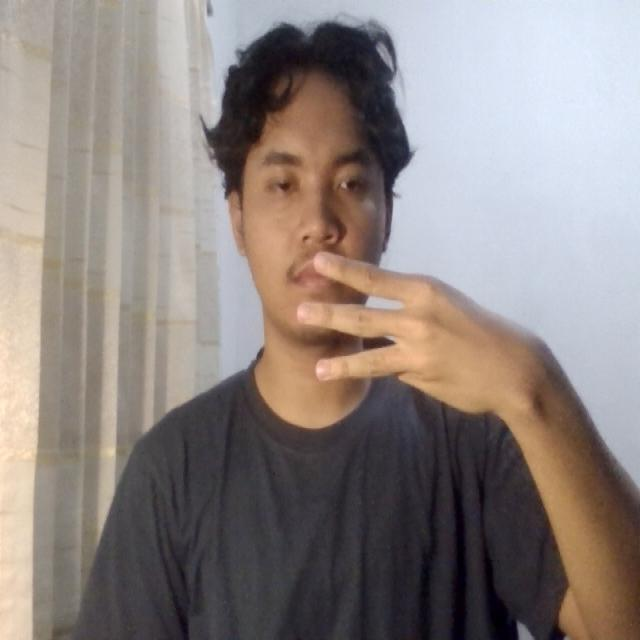E: (277, 229, 513, 435)
